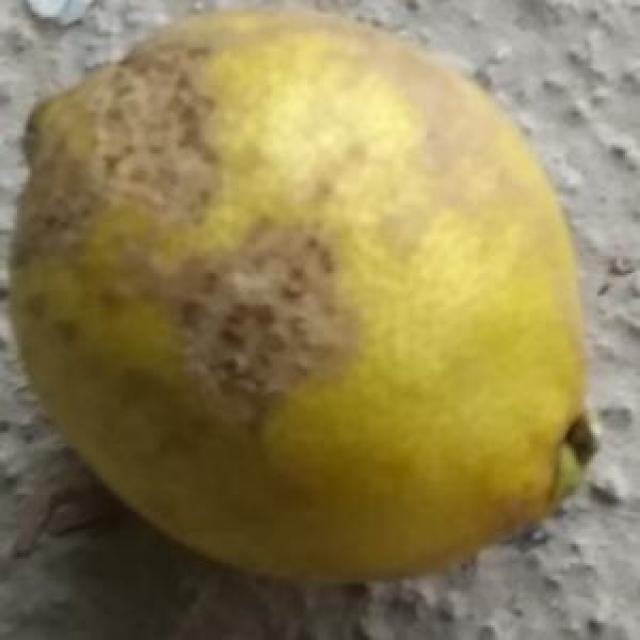lemon: (4, 9, 598, 580)
